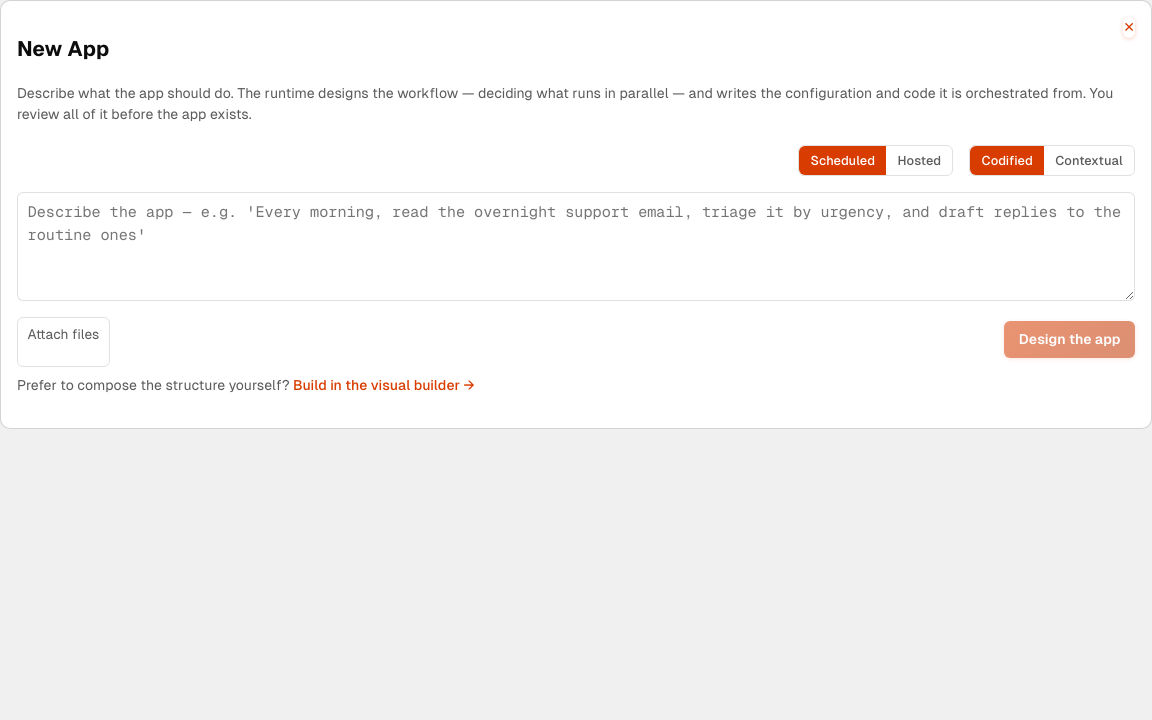
Test: the chat surface derives before it creates › start over discards the design and returns to the prompt
Replace the text in the 1st text box with test id "new-app-prompt" with "summarize the changelog" at point(576, 247), box [17,192,1135,301]
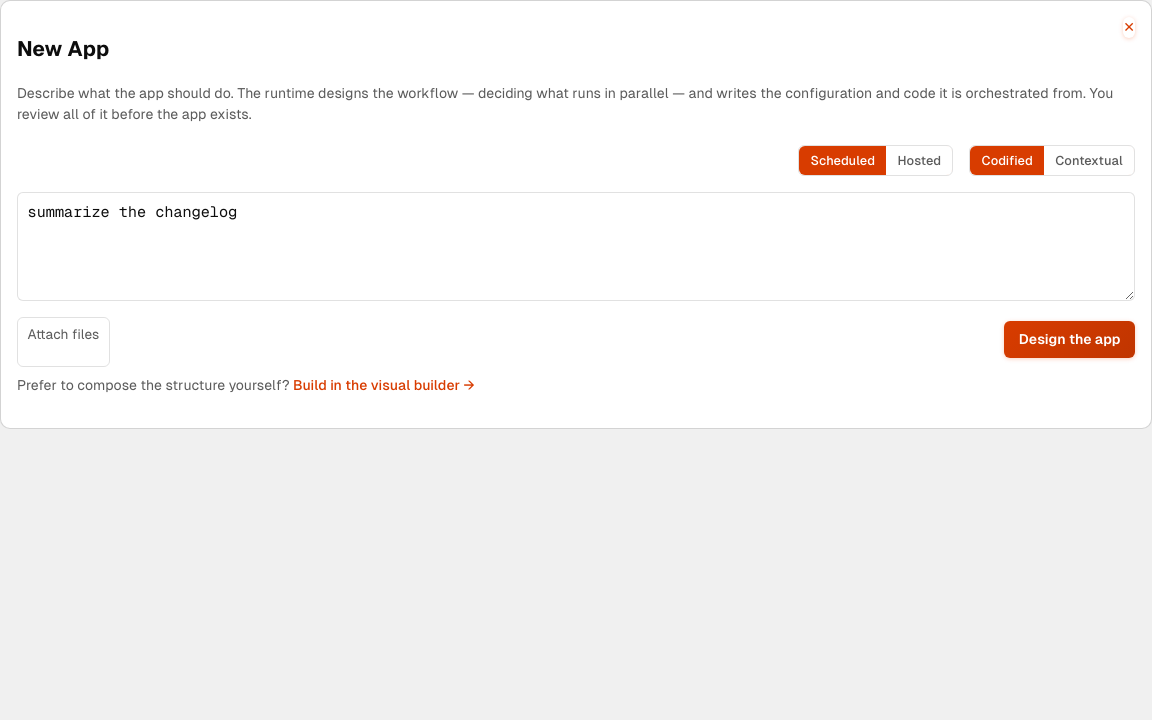
Click the button with test id "new-app-derive" at point(1070, 340), box [1004,321,1135,358]
(page scrolled)
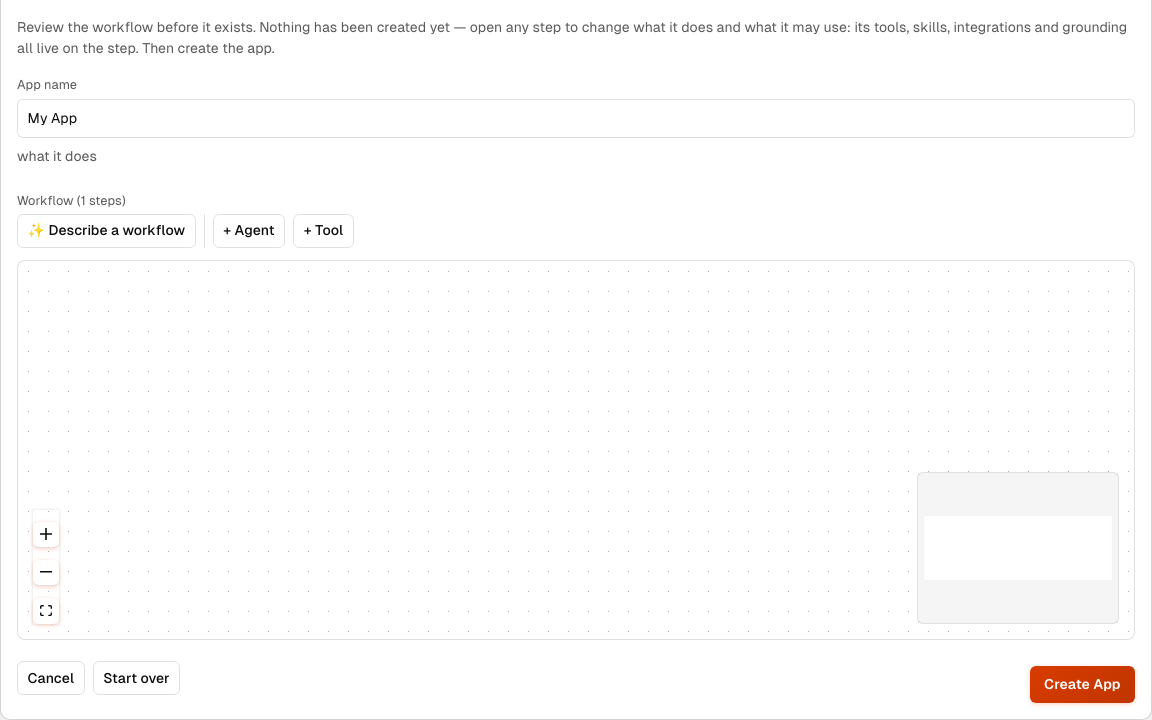
Click the button with test id "new-app-start-over" at point(136, 678), box [93,661,180,695]
(page scrolled)
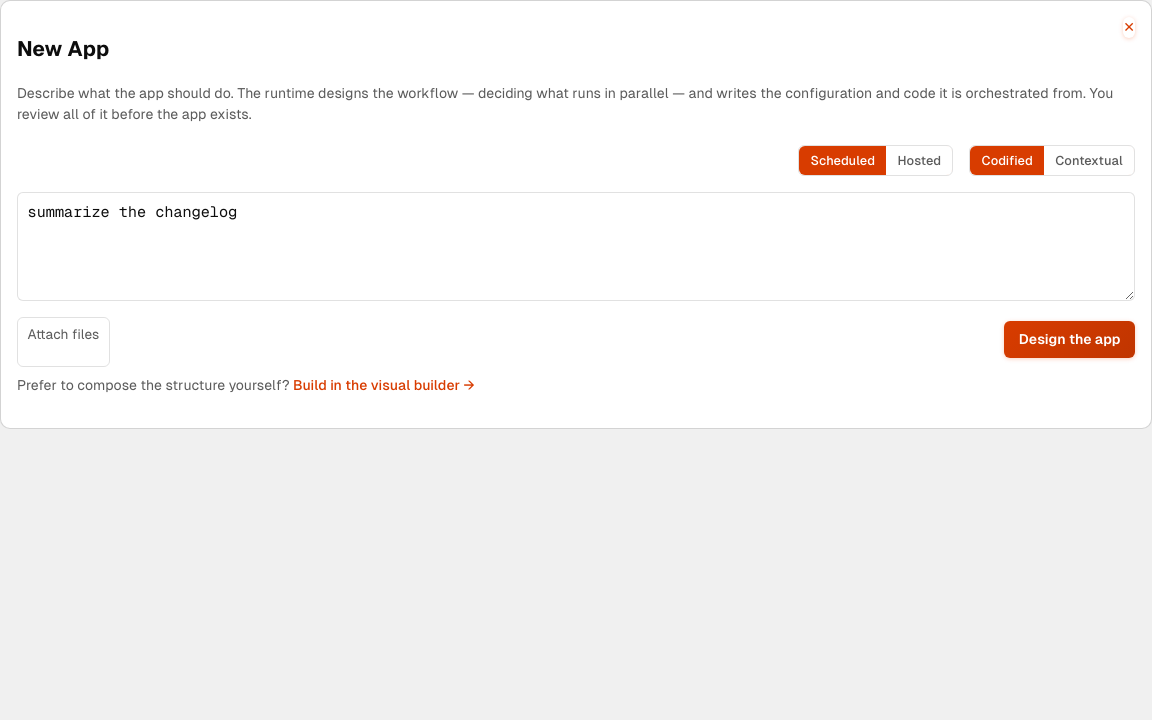
Expected: the element with test id "new-app-review" is gone
Expected: the form with test id "new-app-compose" is shown, [17,141,1135,412]
